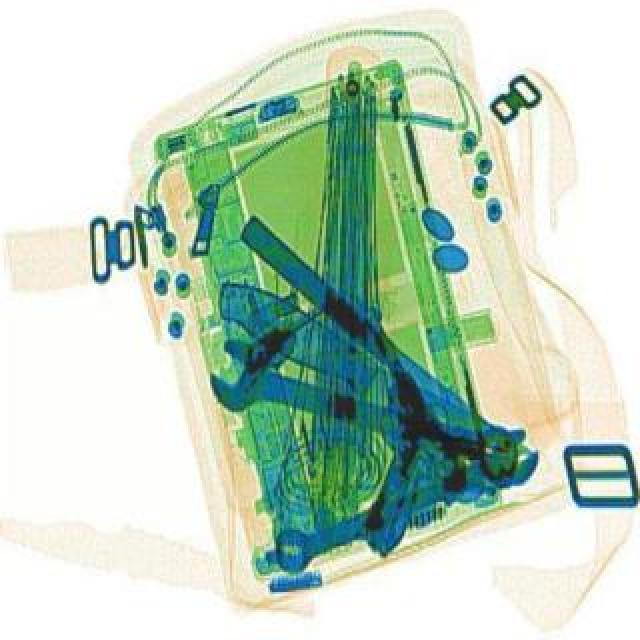gun: (300, 322, 478, 566)
knife: (236, 218, 532, 478), (206, 272, 510, 474)
scissors: (202, 338, 526, 500), (264, 426, 552, 582)
